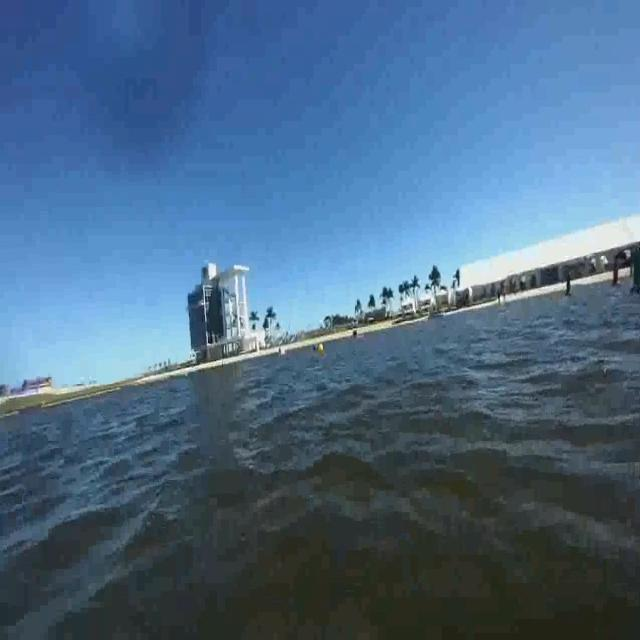green-column-buoy: (628, 247, 640, 294)
red-column-buoy: (613, 258, 622, 288)
yellow-buoy: (317, 343, 325, 356)
